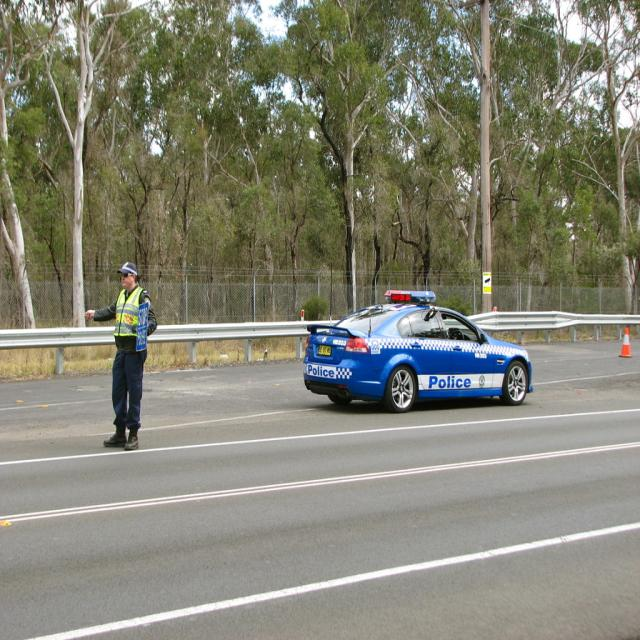car: (303, 288, 535, 412)
